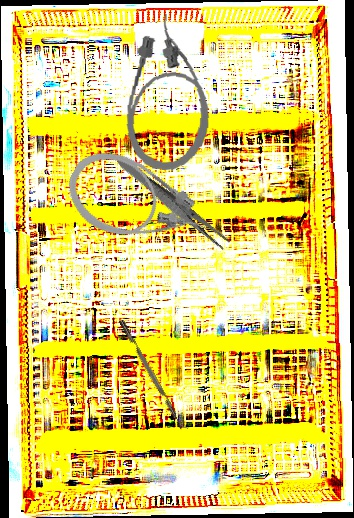Cannula: (55, 137, 219, 274), (121, 11, 220, 174)
Chopper: (118, 316, 191, 433)
Dressing Forceps: (113, 154, 232, 253)
